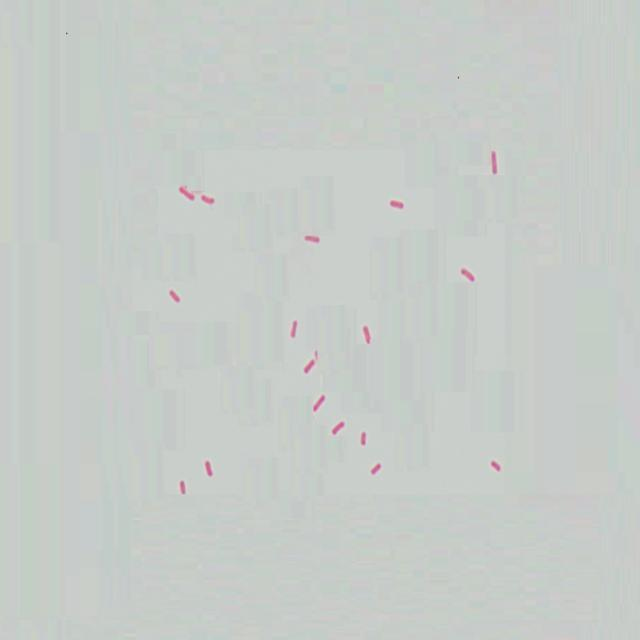E-coli: (172, 473, 193, 506), (198, 183, 219, 215), (360, 317, 378, 352), (485, 146, 501, 182), (198, 454, 219, 480), (176, 180, 196, 207), (307, 389, 327, 415), (303, 351, 320, 378), (459, 262, 478, 286), (386, 192, 407, 213), (167, 279, 183, 306), (486, 450, 505, 472), (330, 417, 346, 440), (356, 427, 371, 451), (366, 460, 384, 479), (302, 227, 320, 244), (289, 316, 300, 337)
